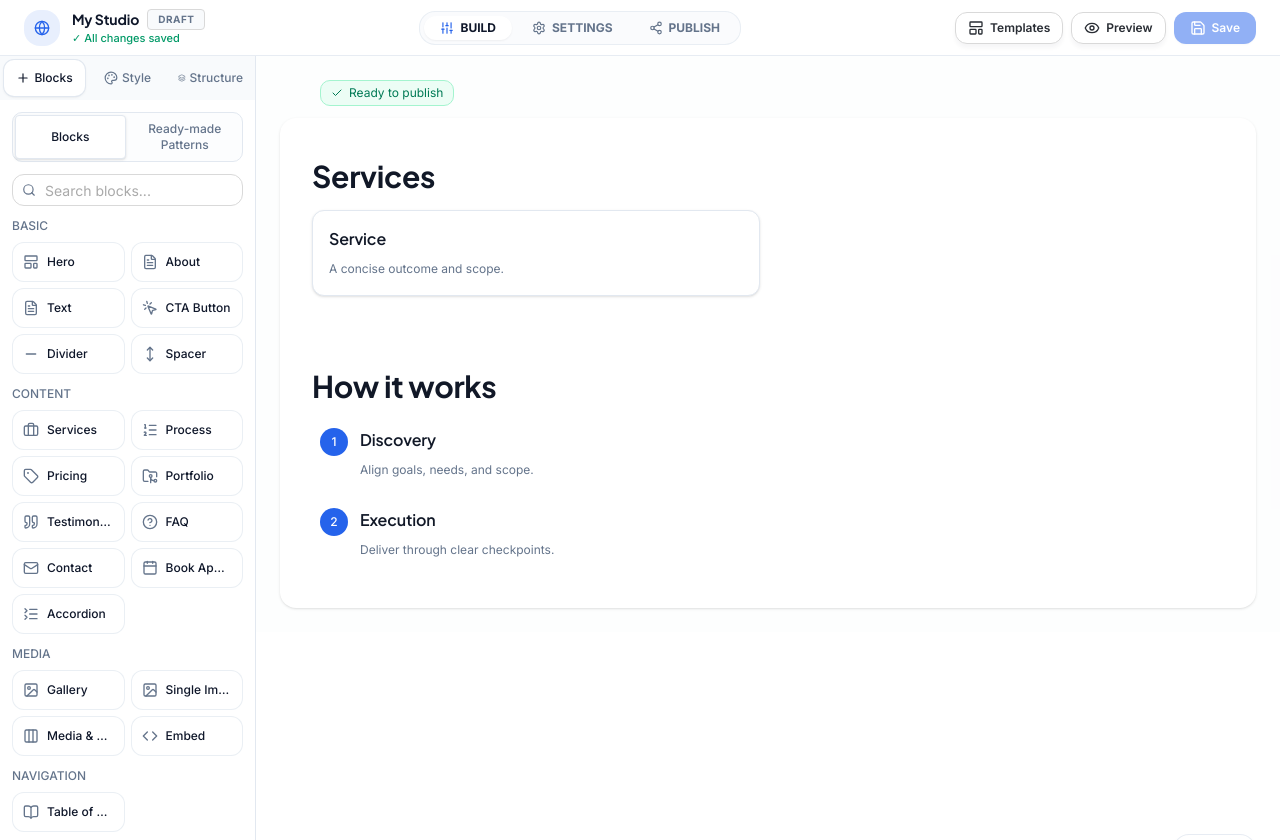
Scenario: desktop section delete safety › asks for confirmation before deleting a section with content
What coordinates should you click on to do the following:
click the tab "Structure"
I would click on:
 (210, 78)
Its box is [170, 60, 251, 96].
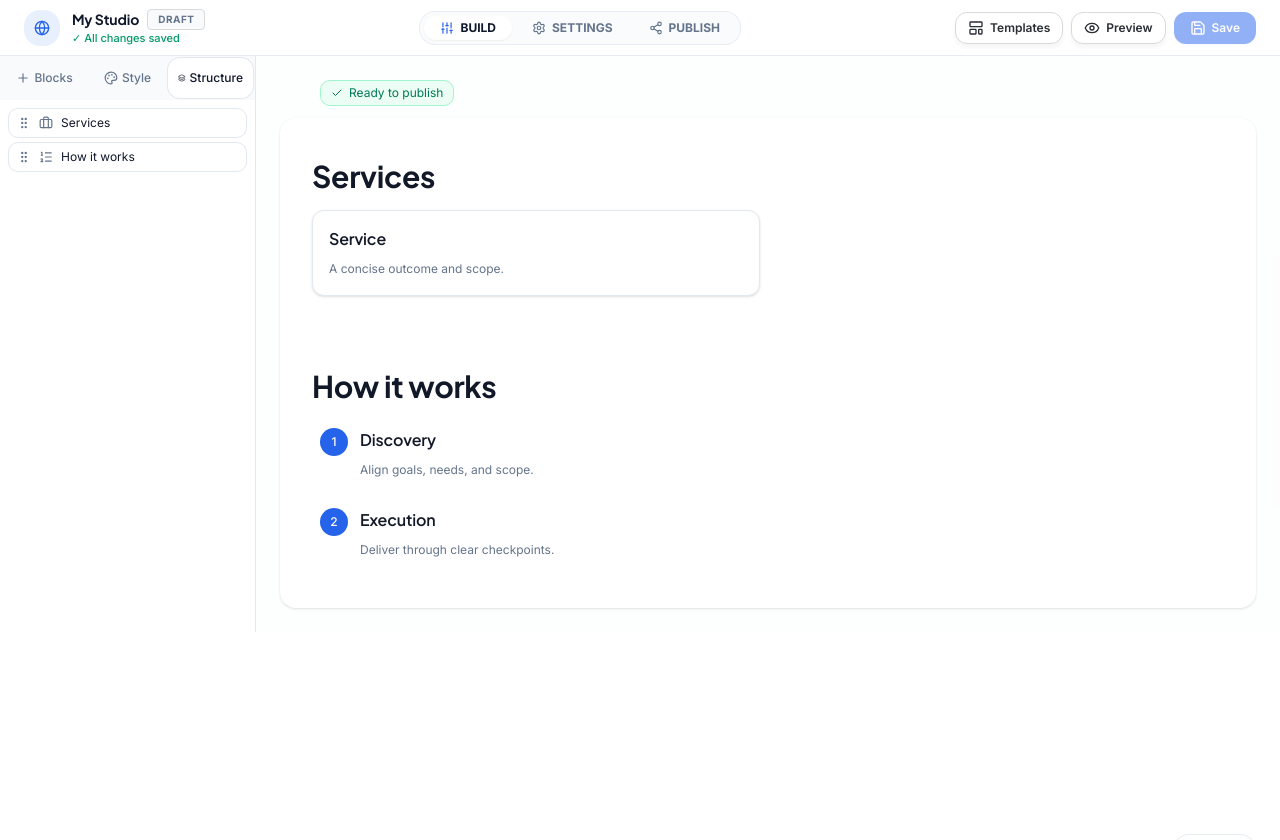
What coordinates should you click on to do the following:
click the 1st element showing "Services"
I would click on:
 (128, 123)
Its box is [8, 108, 247, 138].
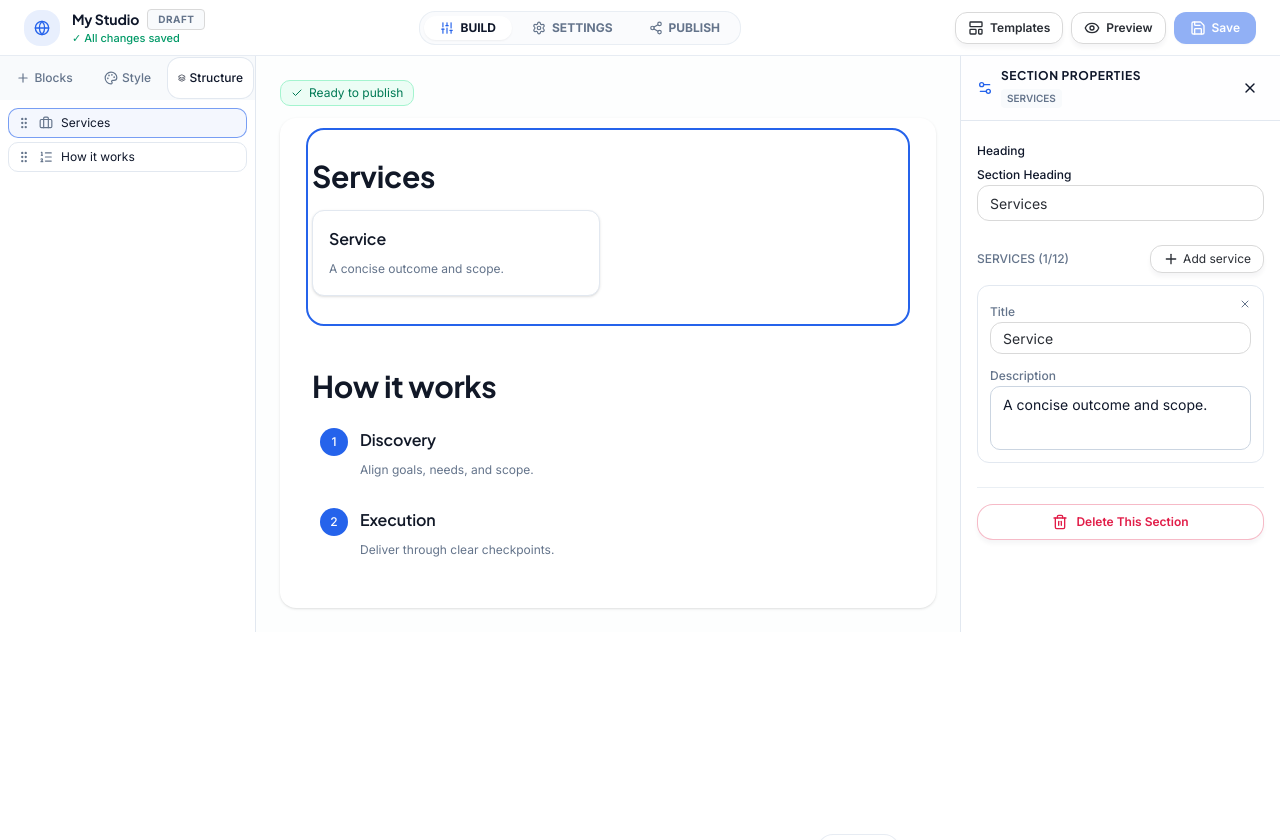
What coordinates should you click on to do the following:
click the button "Delete This Section"
I would click on:
 (1120, 522)
Its box is [977, 504, 1264, 540].
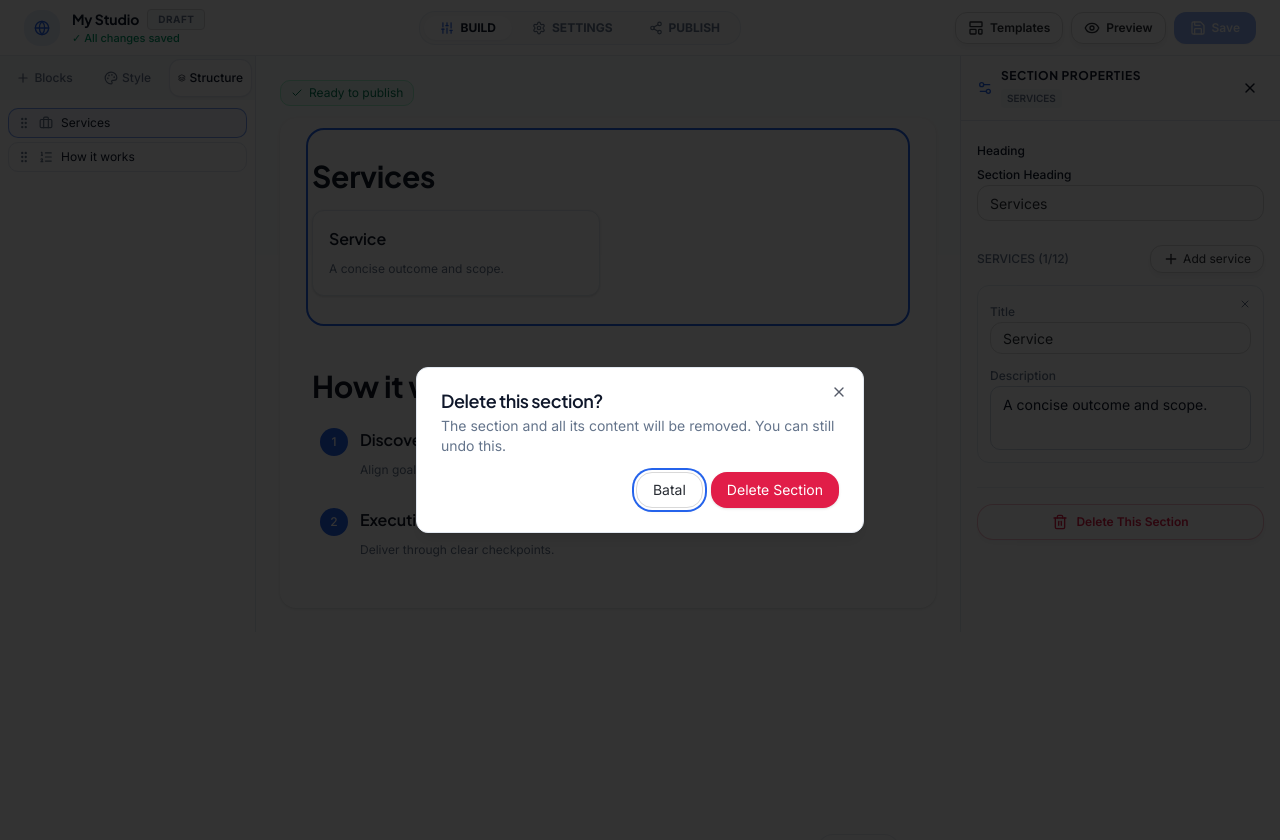
Expected: the heading "Delete this section?" is shown, [441, 389, 603, 412]
What coordinates should you click on to do the following:
click the button "Delete Section"
I would click on:
 (775, 490)
Its box is [711, 472, 839, 508].
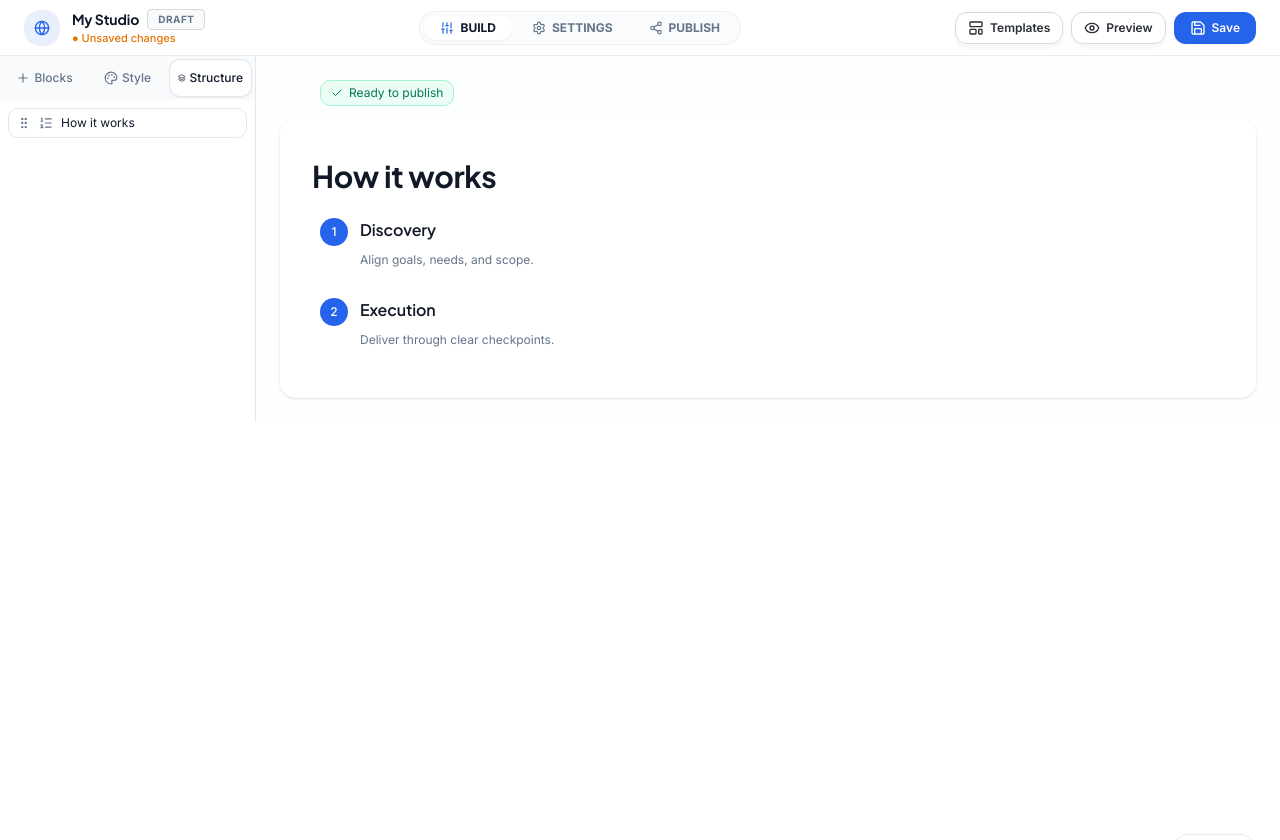
Expected: the button "Delete this section?" is gone
